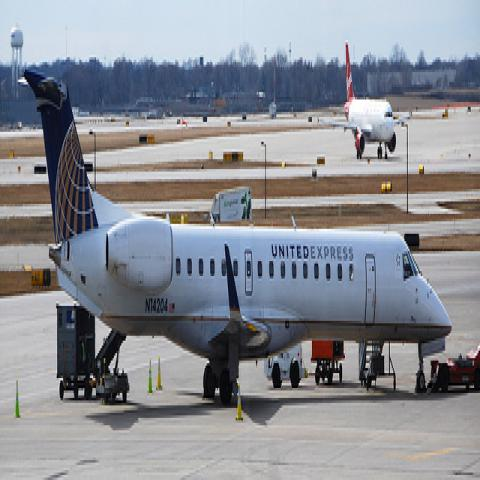truck: (57, 308, 129, 407), (264, 342, 307, 388), (210, 187, 252, 224)
